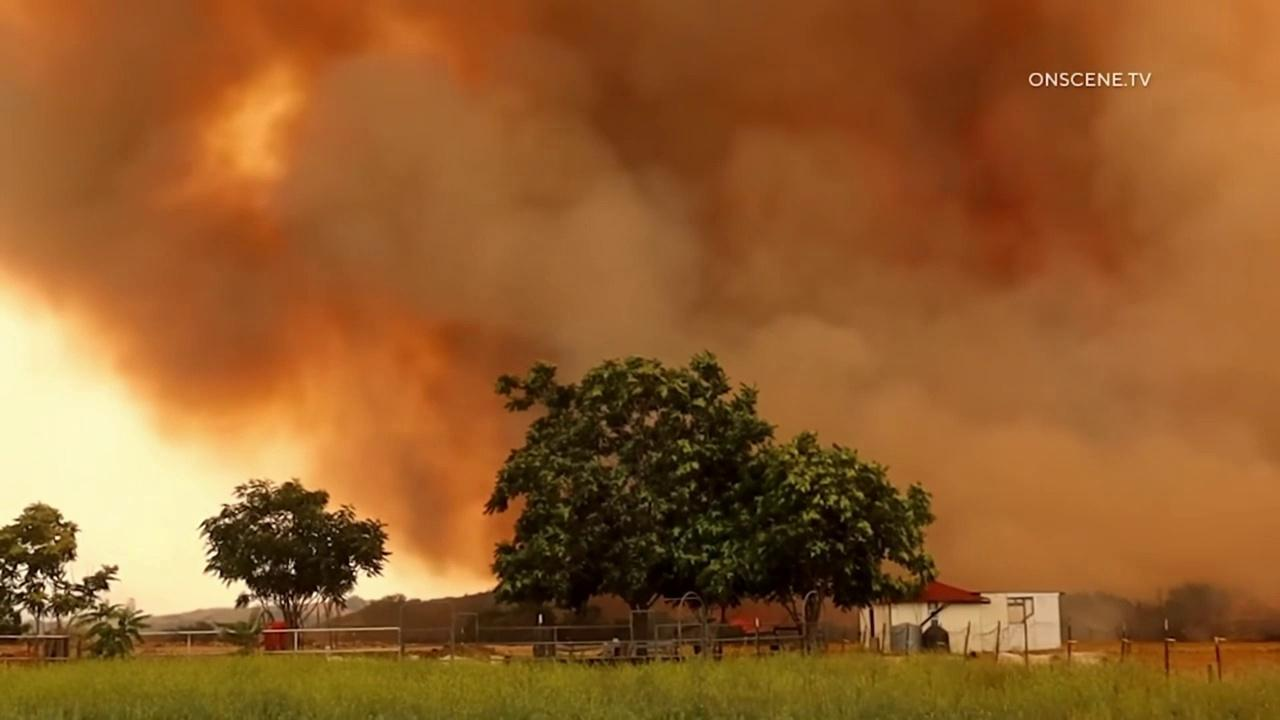fire: (730, 616, 751, 632)
smoke: (0, 0, 1280, 645)
